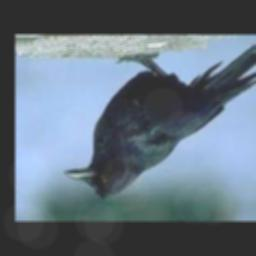Crow: (64, 39, 256, 198)
